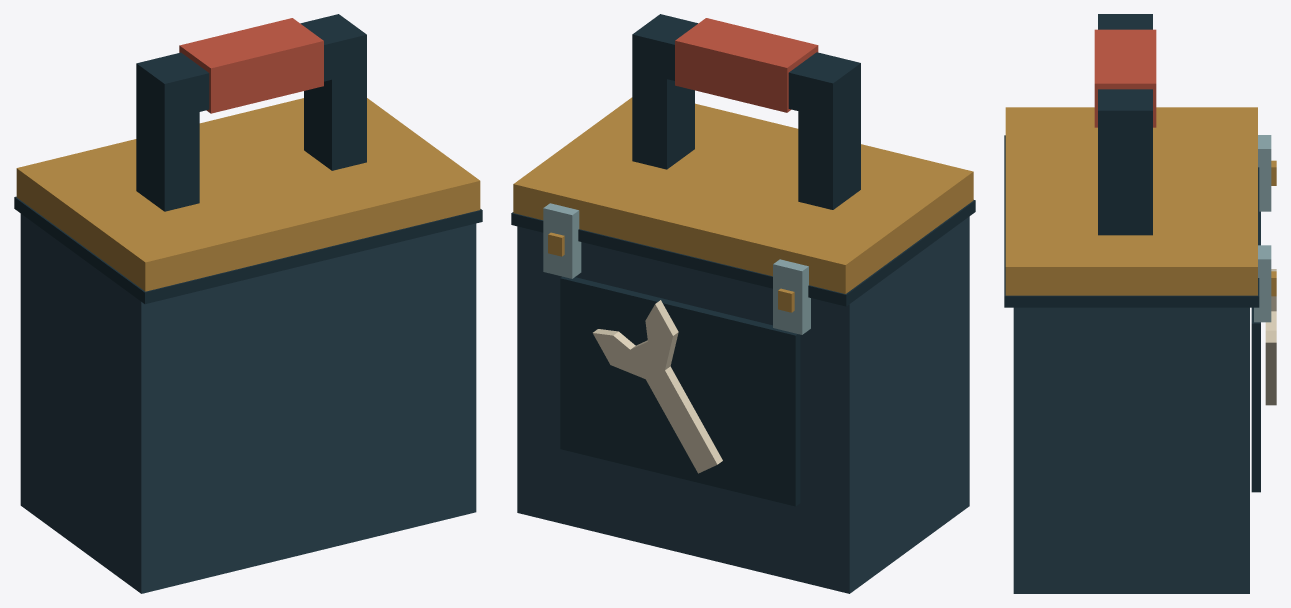
The model's file is repair_kit.gltf.
3 renders of one model, left to right at view 1: azimuth 30°, elevation 25°; view 2: azimuth 150°, elevation 25°; view 3: azimuth 270°, elevation 25°, orthographic. The views are drawn at different scales.
Parts seen in each view (by area): view 1: repair_kit; view 2: repair_kit; view 3: repair_kit.
Part boxes in pixels (x1,y1,x2,y2): repair_kit: (14, 14, 482, 593); repair_kit: (511, 14, 975, 593); repair_kit: (1004, 14, 1276, 593).
Bounding box in the file's own units: 0.242 × 0.3205 × 0.173.
